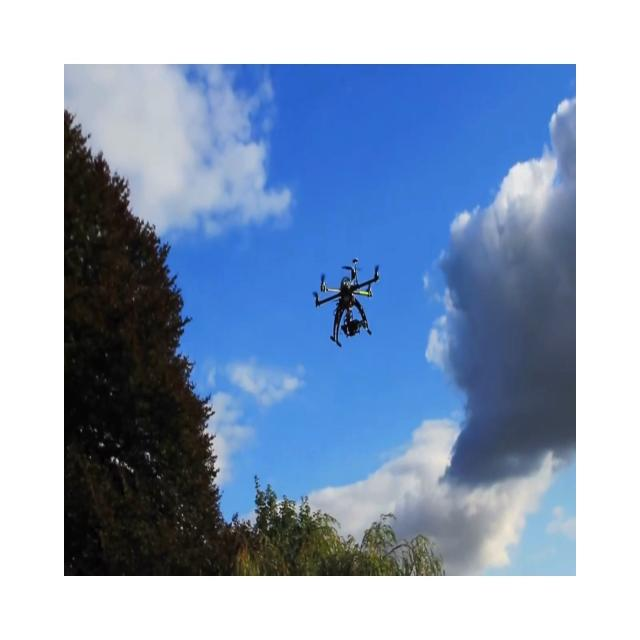drone: (312, 257, 380, 347)
